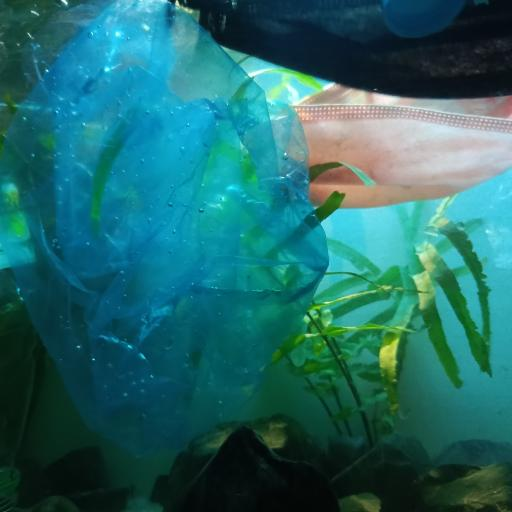bottle_cap: (372, 4, 468, 40)
mask: (177, 0, 511, 100), (287, 84, 512, 211)
plastic_bag: (7, 10, 323, 468)
